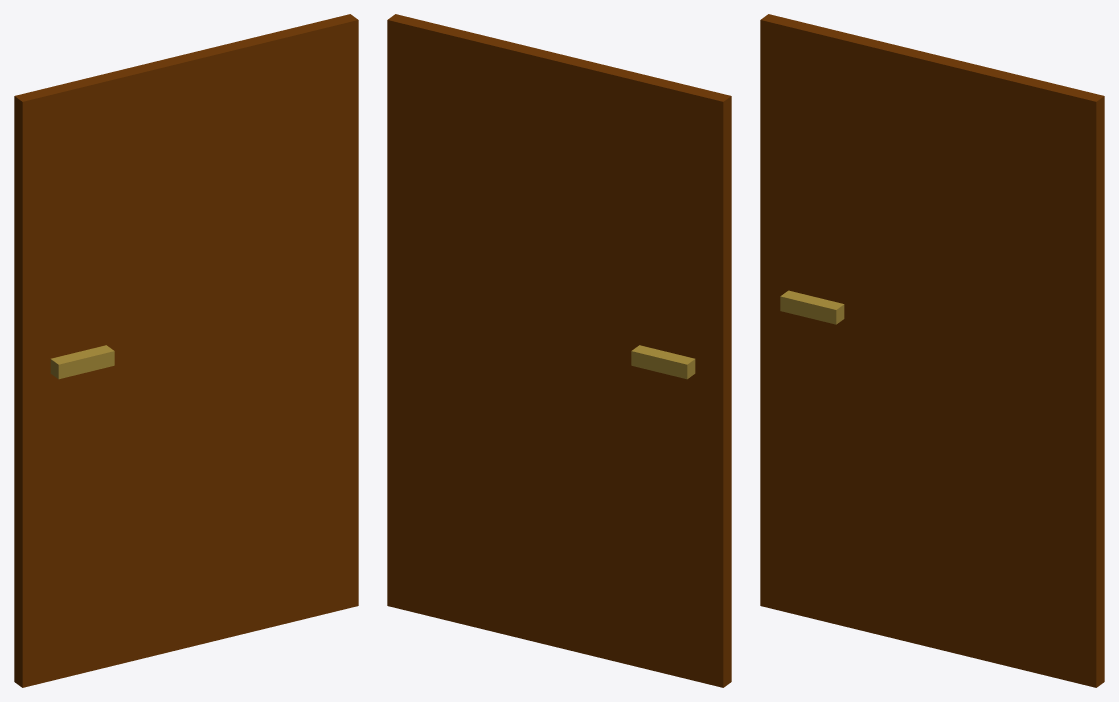
Rendered from Door00.gltf.
The picture shows the model from 3 angles, left to right: view 1: azimuth 30°, elevation 25°; view 2: azimuth 150°, elevation 25°; view 3: azimuth 330°, elevation 25°; orthographic projection.
Visible parts, largest first — view 1: Layer.1, Layer.2; view 2: Layer.1, Layer.3; view 3: Layer.1, Layer.2.
Part boxes in pixels (x1=…): Layer.1: x1=14, y1=14, x2=358, y2=687; Layer.2: x1=50, y1=345, x2=114, y2=379; Layer.1: x1=387, y1=14, x2=731, y2=687; Layer.3: x1=631, y1=345, x2=695, y2=379; Layer.1: x1=760, y1=14, x2=1104, y2=687; Layer.2: x1=780, y1=290, x2=844, y2=324.
Size of the model in its own units: 24 by 40 by 3.
